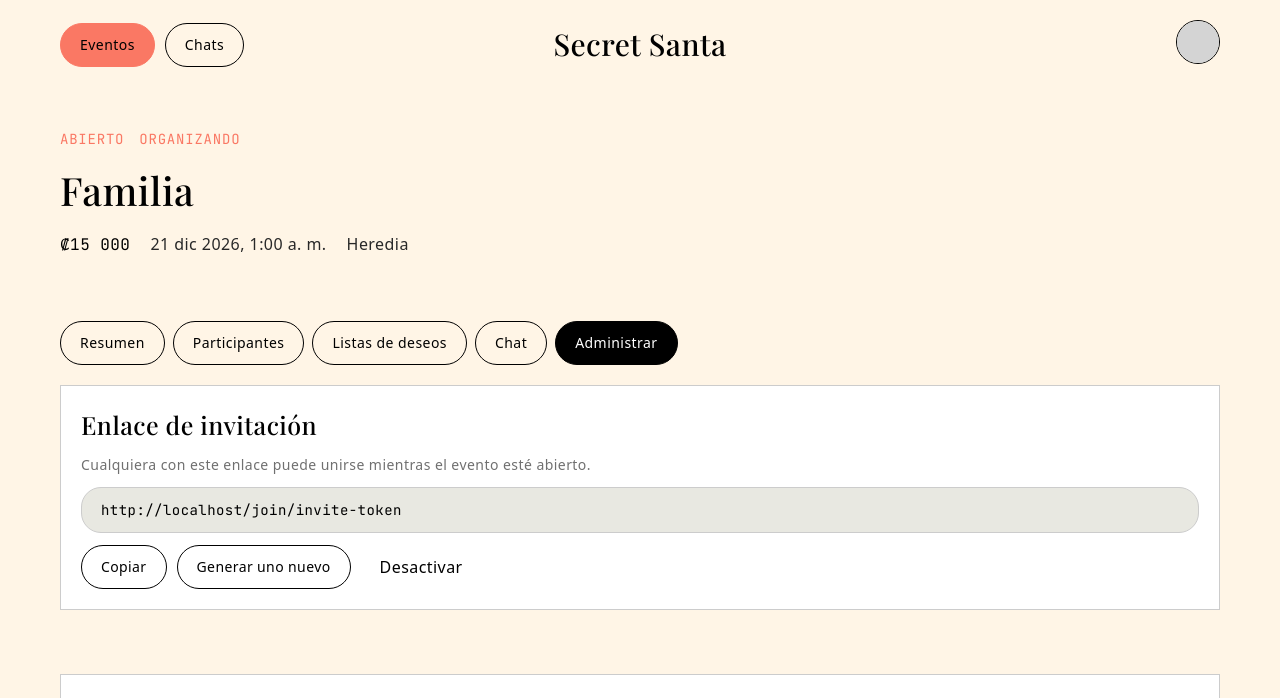
it: InviteLinkCard › Regenerate asks first, then shows the new link
Click the button "Generar uno nuevo".
click(264, 567)  # box [176,545,350,589]
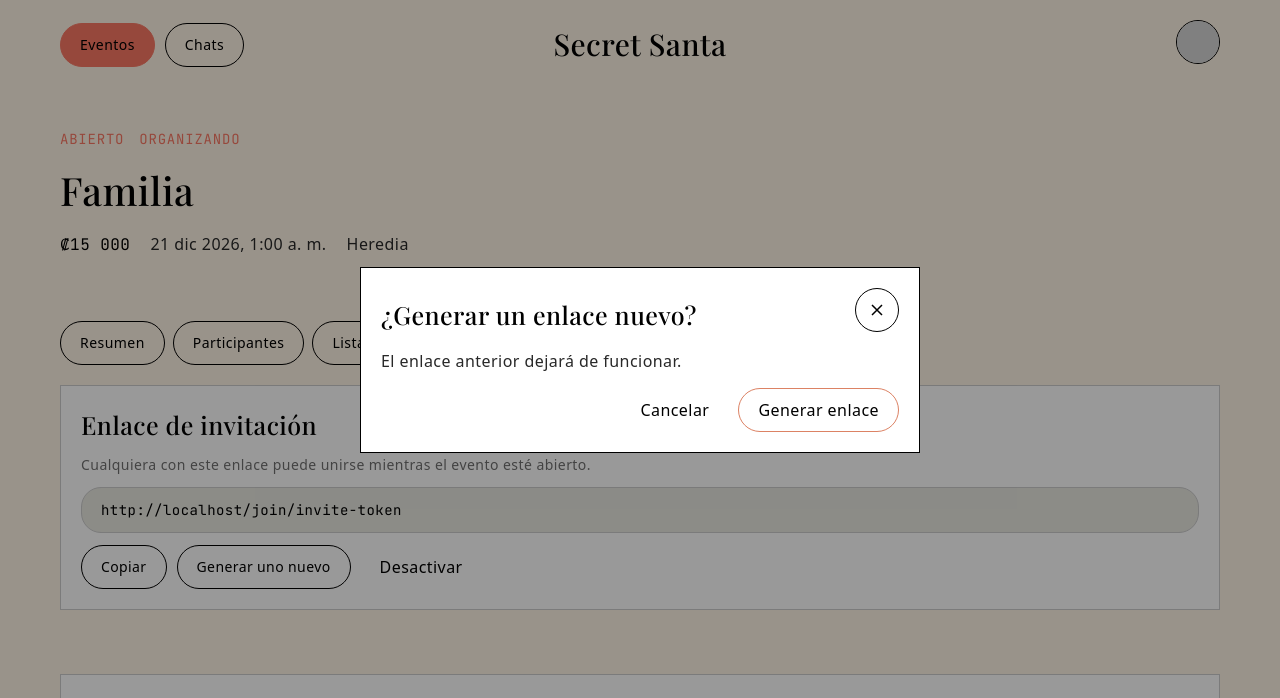
Expected: the dialog "¿Generar un enlace nuevo?" shows "El enlace anterior dejará de funcionar.", [381,350,682,372]
Click the button "Cancelar".
click(675, 410)  # box [621,388,728,432]
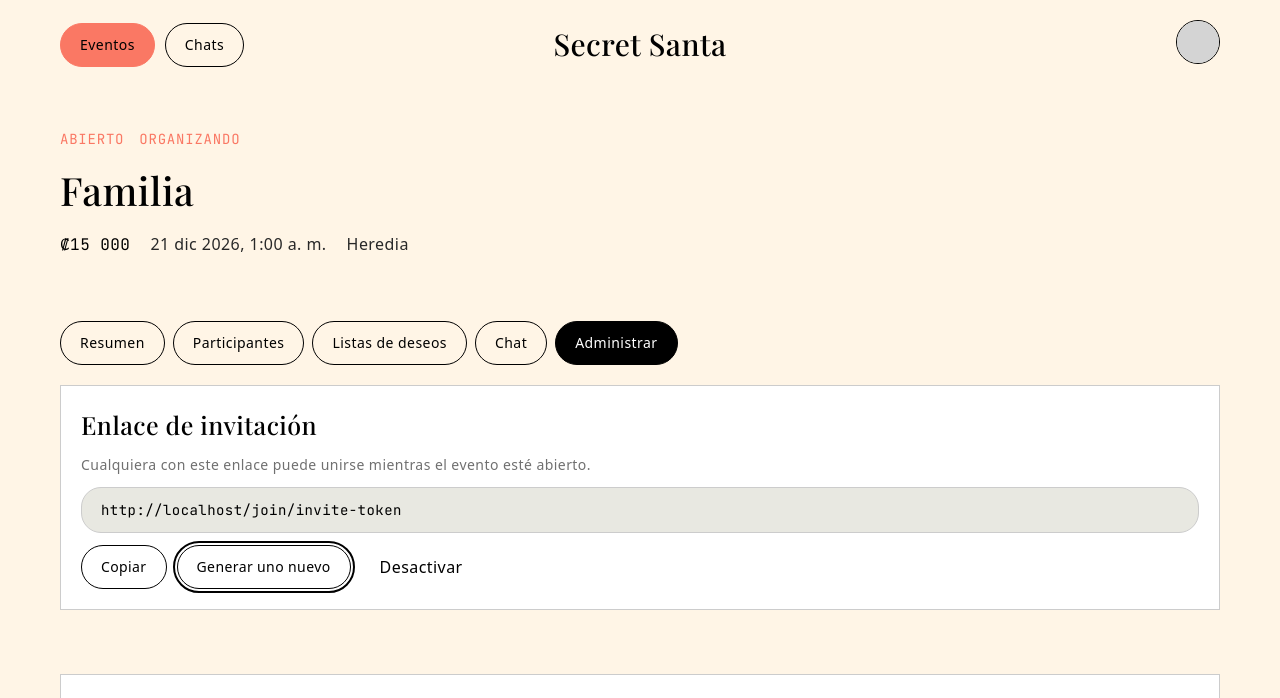
Click the button "Generar uno nuevo".
click(264, 567)  # box [176,545,350,589]
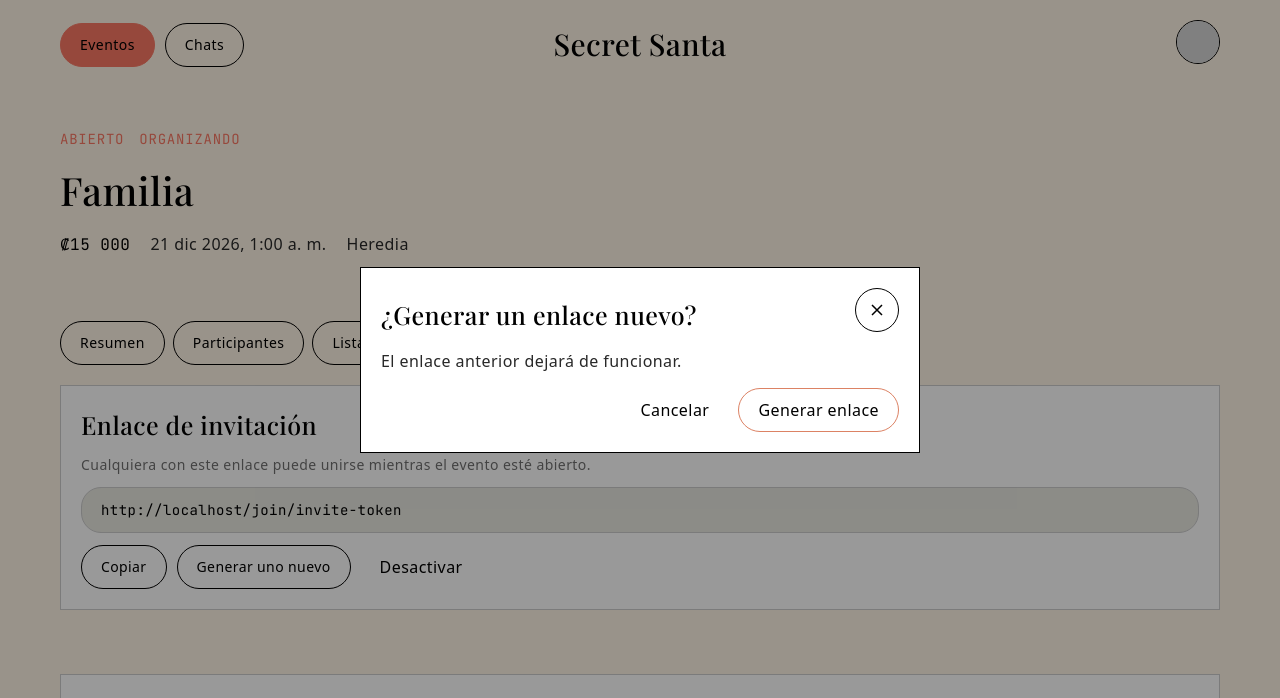
Click the button "Generar enlace".
click(819, 410)  # box [738,388,899,432]
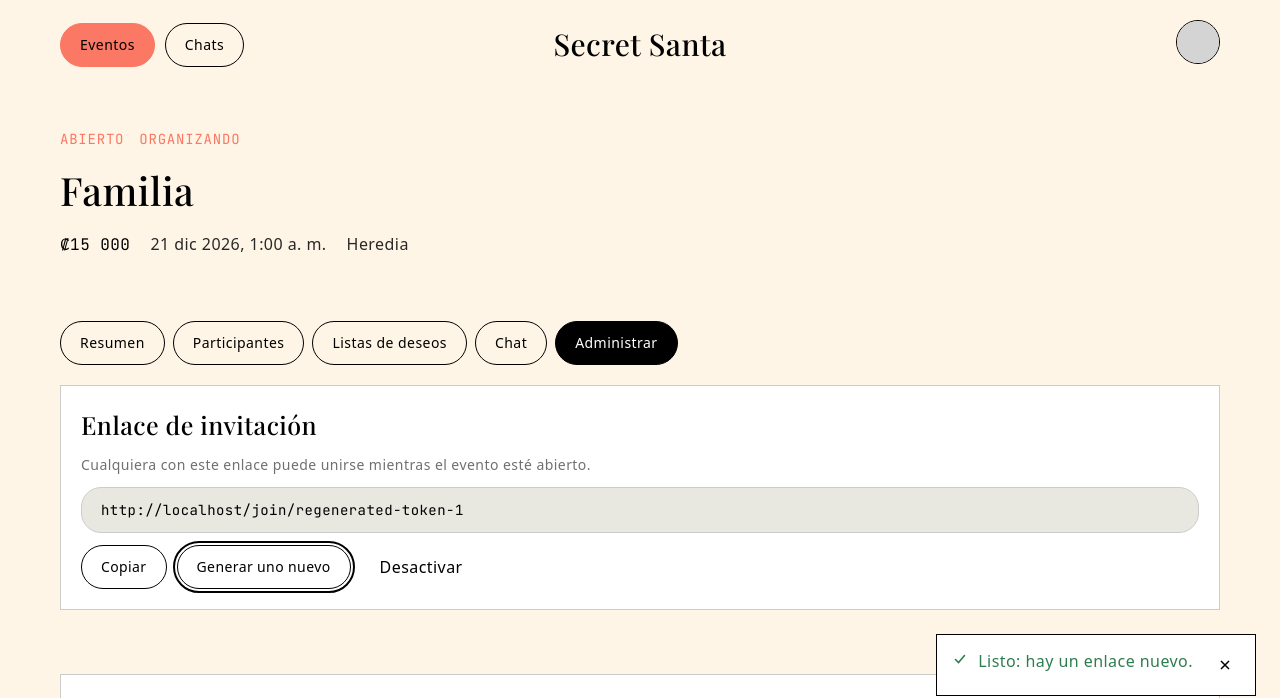
Expected: the text "Listo: hay un enlace nuevo." is shown, [978,649,1193,673]
Expected: the dialog is gone
